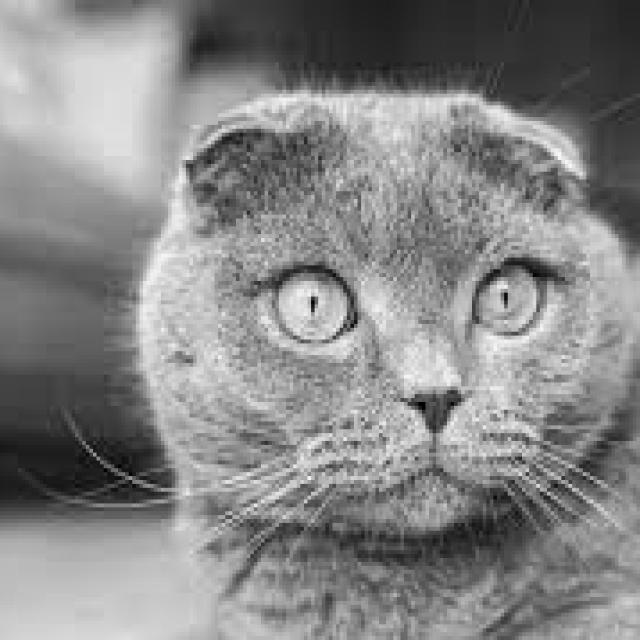scootish: (152, 95, 636, 534)
